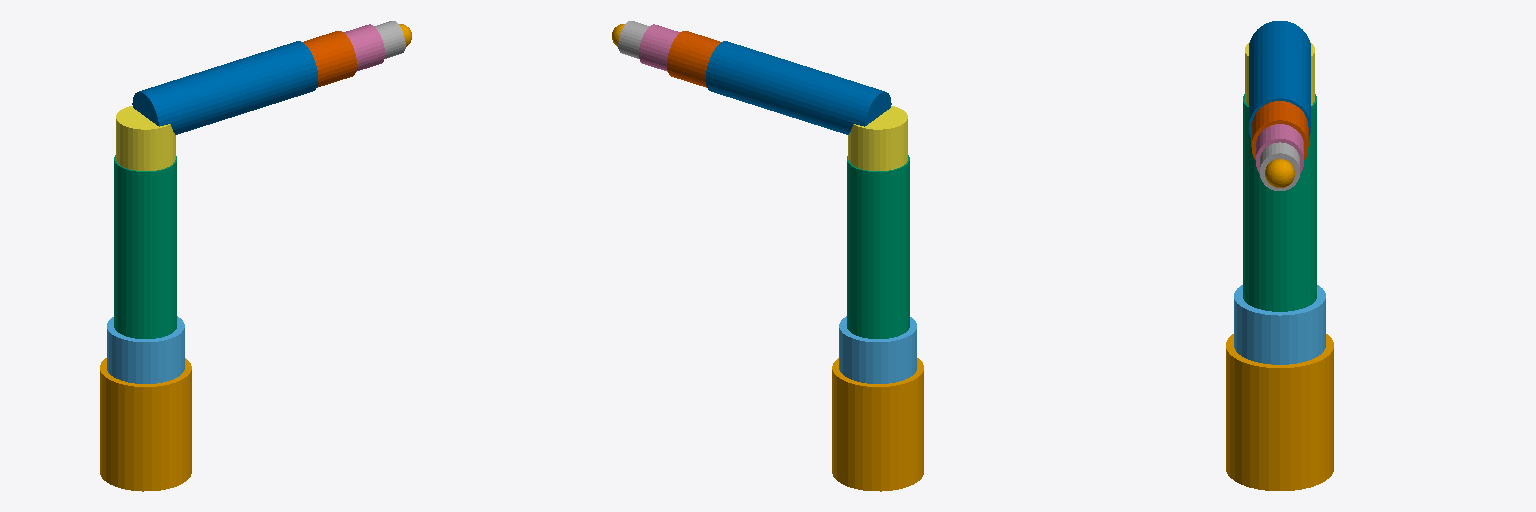
The robot description file, URDF, robot "arm7":
<?xml version="1.0"?>
<!--
  arm7 - a 7-DoF REDUNDANT arm in the "shoulder - elbow - wrist" layout used
  by research arms such as the Franka Panda or the KUKA LBR iiwa.

  Six numbers are enough to specify an end-effector pose (3 for position,
  3 for orientation).  This arm has seven joints, so for almost every reachable
  pose there is a whole ONE-PARAMETER FAMILY of joint angles that achieves it:
  the elbow can swing around the shoulder-to-wrist line like a hinge while the
  hand stays perfectly still.  That family is the NULL SPACE, and projects 05
  and 06 spend their time exploiting it.

  Axis pattern z, y, z, y, z, y, z - roll, pitch, roll, pitch, ... - which is
  what gives the arm its "elbow circle" freedom.

  Units: metres, radians, kilograms.  <origin rpy> is fixed-axis roll-pitch-yaw.
-->
<robot name="arm7">

  <link name="base_link">
    <inertial>
      <origin xyz="0 0 0.10"/><mass value="4.0"/>
      <inertia ixx="0.03" ixy="0" ixz="0" iyy="0.03" iyz="0" izz="0.02"/>
    </inertial>
    <visual>
      <origin xyz="0 0 0.10"/>
      <geometry><cylinder radius="0.080" length="0.20"/></geometry>
    </visual>
  </link>

  <link name="link1">
    <inertial>
      <origin xyz="0 0 0.04"/><mass value="2.5"/>
      <inertia ixx="0.01" ixy="0" ixz="0" iyy="0.01" iyz="0" izz="0.008"/>
    </inertial>
    <visual>
      <origin xyz="0 0 0.04"/>
      <geometry><cylinder radius="0.068" length="0.08"/></geometry>
    </visual>
  </link>

  <link name="link2">
    <inertial>
      <origin xyz="0 0 0.16"/><mass value="3.5"/>
      <inertia ixx="0.04" ixy="0" ixz="0" iyy="0.04" iyz="0" izz="0.006"/>
    </inertial>
    <visual>
      <origin xyz="0 0 0.16"/>
      <geometry><cylinder radius="0.055" length="0.32"/></geometry>
    </visual>
  </link>

  <link name="link3">
    <inertial>
      <origin xyz="0 0 0.04"/><mass value="2.0"/>
      <inertia ixx="0.006" ixy="0" ixz="0" iyy="0.006" iyz="0" izz="0.005"/>
    </inertial>
    <visual>
      <origin xyz="0 0 0.04"/>
      <geometry><cylinder radius="0.052" length="0.08"/></geometry>
    </visual>
  </link>

  <link name="link4">
    <inertial>
      <origin xyz="0 0 0.16"/><mass value="2.5"/>
      <inertia ixx="0.03" ixy="0" ixz="0" iyy="0.03" iyz="0" izz="0.004"/>
    </inertial>
    <visual>
      <origin xyz="0 0 0.16"/>
      <geometry><cylinder radius="0.046" length="0.32"/></geometry>
    </visual>
  </link>

  <link name="link5">
    <inertial>
      <origin xyz="0 0 0.04"/><mass value="1.2"/>
      <inertia ixx="0.003" ixy="0" ixz="0" iyy="0.003" iyz="0" izz="0.002"/>
    </inertial>
    <visual>
      <origin xyz="0 0 0.04"/>
      <geometry><cylinder radius="0.042" length="0.08"/></geometry>
    </visual>
  </link>

  <link name="link6">
    <inertial>
      <origin xyz="0 0 0.03"/><mass value="0.8"/>
      <inertia ixx="0.001" ixy="0" ixz="0" iyy="0.001" iyz="0" izz="0.001"/>
    </inertial>
    <visual>
      <origin xyz="0 0 0.03"/>
      <geometry><cylinder radius="0.036" length="0.06"/></geometry>
    </visual>
  </link>

  <link name="link7">
    <inertial>
      <origin xyz="0 0 0.05"/><mass value="0.5"/>
      <inertia ixx="0.0008" ixy="0" ixz="0" iyy="0.0008" iyz="0" izz="0.0008"/>
    </inertial>
    <visual>
      <origin xyz="0 0 0.05"/>
      <geometry><cylinder radius="0.030" length="0.11"/></geometry>
    </visual>
  </link>

  <link name="tool0">
    <inertial>
      <origin xyz="0 0 0"/><mass value="0.1"/>
      <inertia ixx="0.0001" ixy="0" ixz="0" iyy="0.0001" iyz="0" izz="0.0001"/>
    </inertial>
    <visual>
      <origin xyz="0 0 0"/>
      <geometry><sphere radius="0.022"/></geometry>
    </visual>
  </link>

  <joint name="joint1" type="revolute">
    <parent link="base_link"/><child link="link1"/>
    <origin xyz="0 0 0.20" rpy="0 0 0"/><axis xyz="0 0 1"/>
    <limit lower="-2.90" upper="2.90" effort="87" velocity="2.6"/>
  </joint>

  <joint name="joint2" type="revolute">
    <parent link="link1"/><child link="link2"/>
    <origin xyz="0 0 0.08" rpy="0 0 0"/><axis xyz="0 1 0"/>
    <limit lower="-1.76" upper="1.76" effort="87" velocity="2.6"/>
  </joint>

  <joint name="joint3" type="revolute">
    <parent link="link2"/><child link="link3"/>
    <origin xyz="0 0 0.32" rpy="0 0 0"/><axis xyz="0 0 1"/>
    <limit lower="-2.90" upper="2.90" effort="87" velocity="2.6"/>
  </joint>

  <!-- The elbow.  Its lower limit is 0.10 rad, not 0: a perfectly straight arm
       is a SINGULARITY (the hand can no longer be pushed outwards), so real
       arms are built so the elbow can never fully lock. -->
  <joint name="joint4" type="revolute">
    <parent link="link3"/><child link="link4"/>
    <origin xyz="0 0 0.08" rpy="0 0 0"/><axis xyz="0 1 0"/>
    <limit lower="0.10" upper="2.90" effort="87" velocity="2.6"/>
  </joint>

  <joint name="joint5" type="revolute">
    <parent link="link4"/><child link="link5"/>
    <origin xyz="0 0 0.32" rpy="0 0 0"/><axis xyz="0 0 1"/>
    <limit lower="-2.90" upper="2.90" effort="12" velocity="3.0"/>
  </joint>

  <joint name="joint6" type="revolute">
    <parent link="link5"/><child link="link6"/>
    <origin xyz="0 0 0.08" rpy="0 0 0"/><axis xyz="0 1 0"/>
    <limit lower="-1.90" upper="1.90" effort="12" velocity="3.0"/>
  </joint>

  <joint name="joint7" type="revolute">
    <parent link="link6"/><child link="link7"/>
    <origin xyz="0 0 0" rpy="0 0 0"/><axis xyz="0 0 1"/>
    <limit lower="-2.90" upper="2.90" effort="12" velocity="3.0"/>
  </joint>

  <joint name="tool_fixed" type="fixed">
    <parent link="link7"/><child link="tool0"/>
    <origin xyz="0 0 0.11" rpy="0 0 0"/>
  </joint>

</robot>

--- Facts derived from the render (not from the file) ---
3 views of the same robot in one strip: view 1: azimuth 30°, elevation 25°; view 2: azimuth 150°, elevation 25°; view 3: azimuth 270°, elevation 25° (orthographic).
Robot: arm7 — 9 links, 8 joints (7 revolute, 1 fixed); root link base_link; default pose: joints at zero except 1 at the middle of their limits (joint4 = 1.5).
Visible links, largest first — view 1: link2, base_link, link4, link1, link3, link5, link6, link7; view 2: link2, base_link, link4, link1, link3, link5, link6, link7; view 3: base_link, link2, link1, link4, link5, link6, link7, tool0.
Boxes of the visible links, <box> form: link2: <box>114,155,176,338</box>; base_link: <box>100,358,191,491</box>; link4: <box>132,41,317,134</box>; link1: <box>107,316,184,383</box>; link3: <box>116,106,175,170</box>; link5: <box>303,31,356,87</box>; link6: <box>344,24,384,71</box>; link7: <box>374,21,405,58</box>; link2: <box>847,155,909,338</box>; base_link: <box>832,358,923,491</box>; link4: <box>706,41,891,134</box>; link1: <box>839,316,916,383</box>; link3: <box>848,106,907,170</box>; link5: <box>667,31,720,87</box>; link6: <box>639,24,679,71</box>; link7: <box>618,21,649,58</box>; base_link: <box>1226,334,1333,490</box>; link2: <box>1243,94,1316,311</box>; link1: <box>1234,285,1325,364</box>; link4: <box>1249,21,1310,136</box>; link5: <box>1251,101,1308,159</box>; link6: <box>1256,124,1303,173</box>; link7: <box>1260,142,1299,190</box>; tool0: <box>1265,159,1294,187</box>.
Size in the robot's own frame: 0.6107 by 0.16 by 0.7502 metres.
Geometry: primitives only (box / cylinder / sphere), no mesh files.
